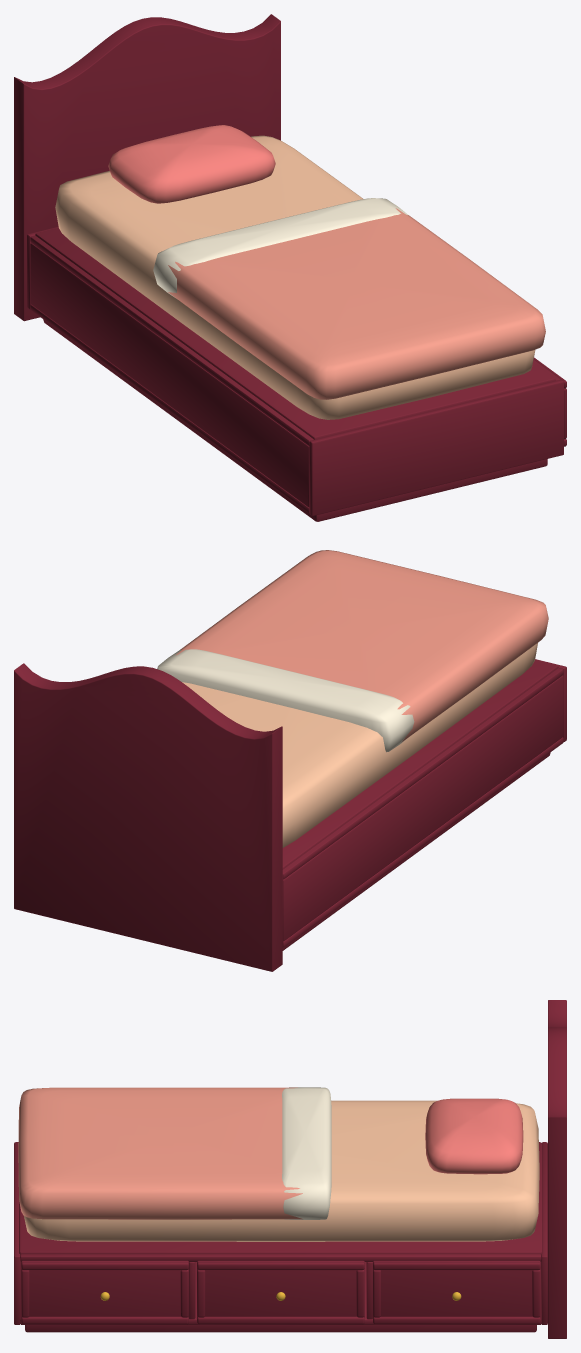
Rendered from cama_solteiro_gavetas_vinho.glb.
The picture shows the model from 3 angles, top to bottom: view 1: azimuth 30°, elevation 25°; view 2: azimuth 150°, elevation 25°; view 3: azimuth 270°, elevation 25°; orthographic projection. The views are drawn at different scales.
Parts seen in each view (by area): view 1: cama_solteiro_gavetas_vinho; view 2: cama_solteiro_gavetas_vinho; view 3: cama_solteiro_gavetas_vinho, gaveta_1, gaveta_2, gaveta_3.
Part boxes in pixels (x1,y1,x2,y2): cama_solteiro_gavetas_vinho: (14,14,563,521); cama_solteiro_gavetas_vinho: (14,550,566,971); cama_solteiro_gavetas_vinho: (14,1000,566,1338); gaveta_1: (21,1260,188,1324); gaveta_2: (197,1260,364,1324); gaveta_3: (373,1260,540,1324).
Size of the model in its own units: 1.07 by 1 by 2.03.
Materials: 1 (1 with a texture image).
